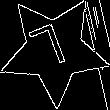L_S: (31, 21, 77, 80)
